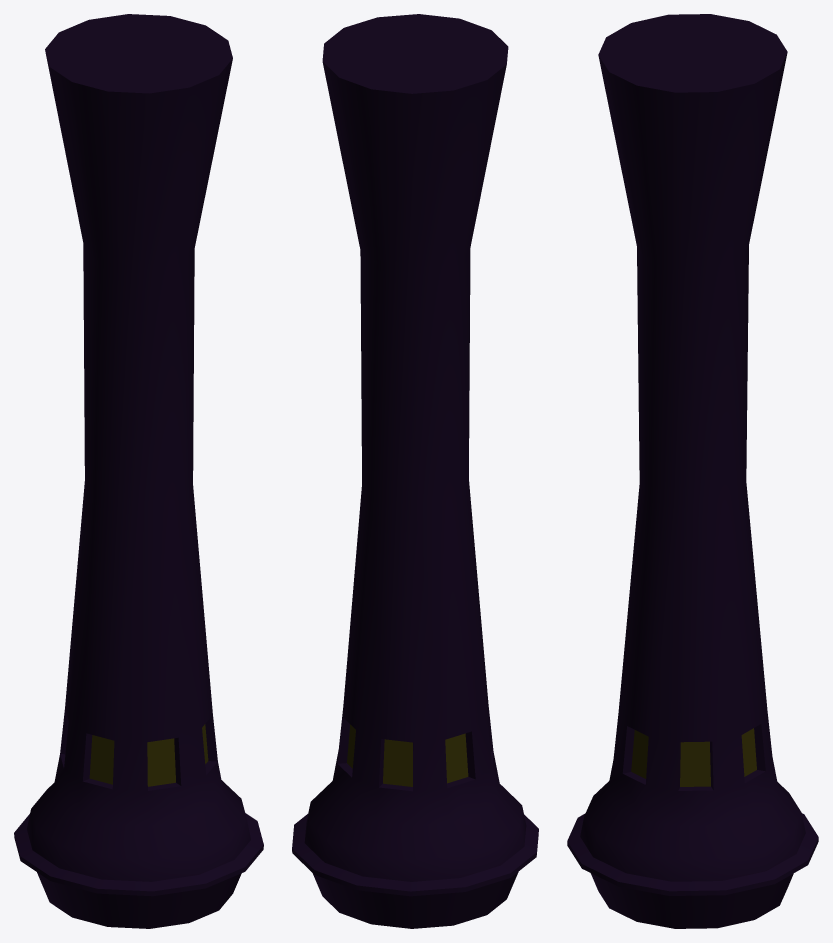
File: body_full_window.FBX
The picture shows the model from 3 angles, left to right: view 1: azimuth 30°, elevation 25°; view 2: azimuth 150°, elevation 25°; view 3: azimuth 270°, elevation 25°; orthographic projection.
Visible parts, largest first — view 1: pillar_full_window, pillar_full_window_glass; view 2: pillar_full_window, pillar_full_window_glass; view 3: pillar_full_window, pillar_full_window_glass.
Boxes of the visible parts, left/top/right/bottom form: pillar_full_window: left=14, top=14, right=263, bottom=928; pillar_full_window_glass: left=89, top=724, right=208, bottom=786; pillar_full_window: left=292, top=14, right=538, bottom=928; pillar_full_window_glass: left=347, top=724, right=468, bottom=786; pillar_full_window: left=567, top=14, right=818, bottom=928; pillar_full_window_glass: left=631, top=728, right=756, bottom=786.
Bounding box in the file's own units: 10.44 × 38.95 × 10.61.
